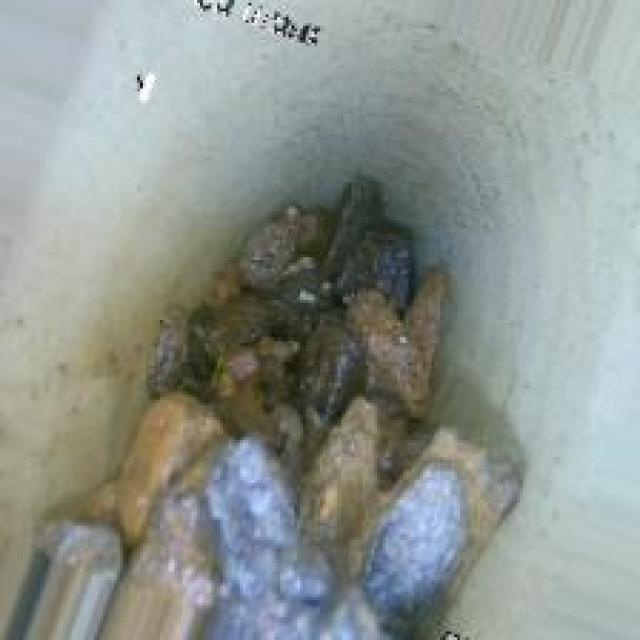stone: (97, 146, 517, 617)
